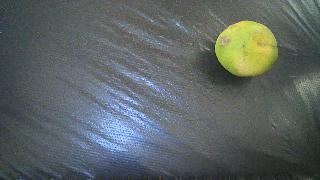DESECHO: (215, 21, 278, 76)
